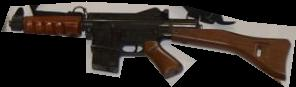gun: (1, 1, 296, 87)
